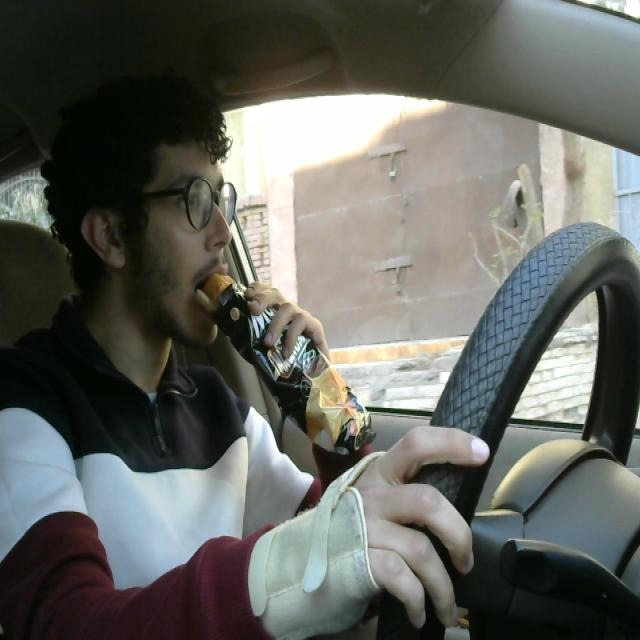eating: (198, 261, 417, 494)
